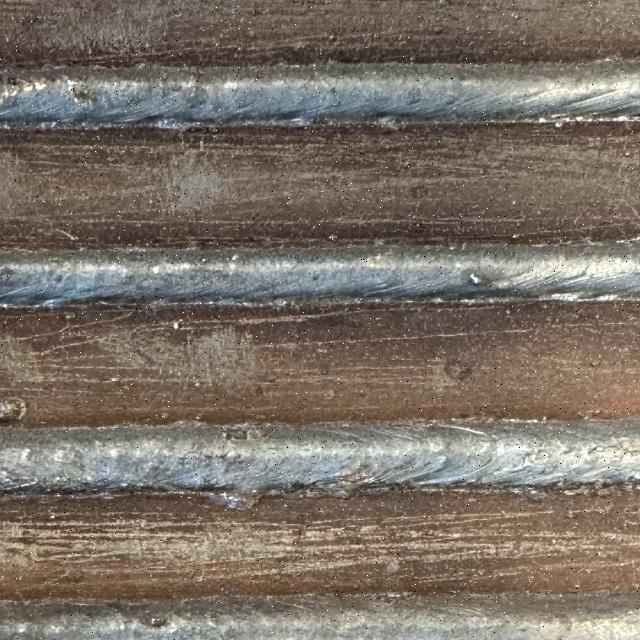Excess Reinforcement: (200, 490, 262, 509), (288, 484, 358, 499)
Spatters: (0, 398, 27, 422), (147, 616, 167, 627), (470, 274, 482, 285), (328, 234, 338, 240), (555, 121, 563, 128), (625, 152, 630, 156)
